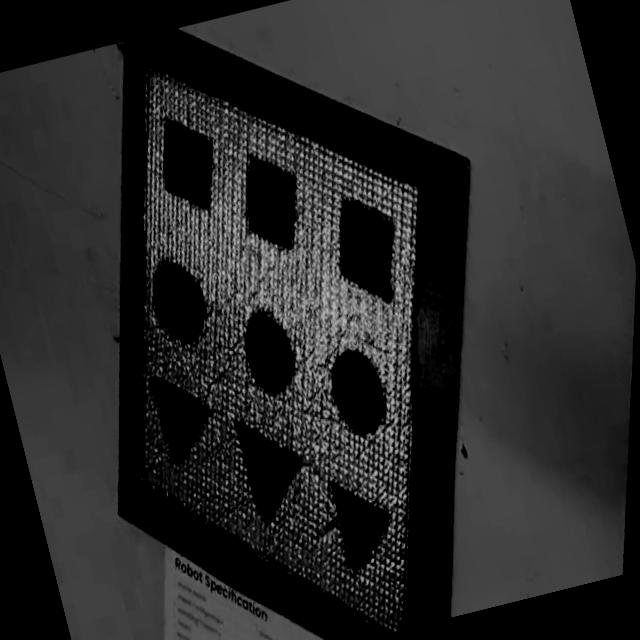mtcircle: (321, 340, 393, 440), (145, 252, 212, 346), (236, 303, 302, 398)
mtcube: (323, 186, 411, 312), (232, 146, 310, 255), (149, 110, 226, 217)
mttriangle: (233, 407, 317, 526), (326, 467, 400, 575), (148, 364, 220, 464)
wb: (136, 62, 419, 628)
